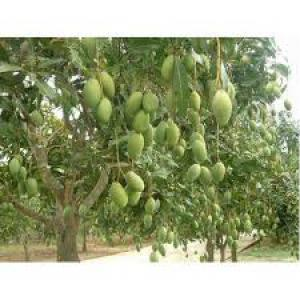Tree: (3, 36, 299, 265)
